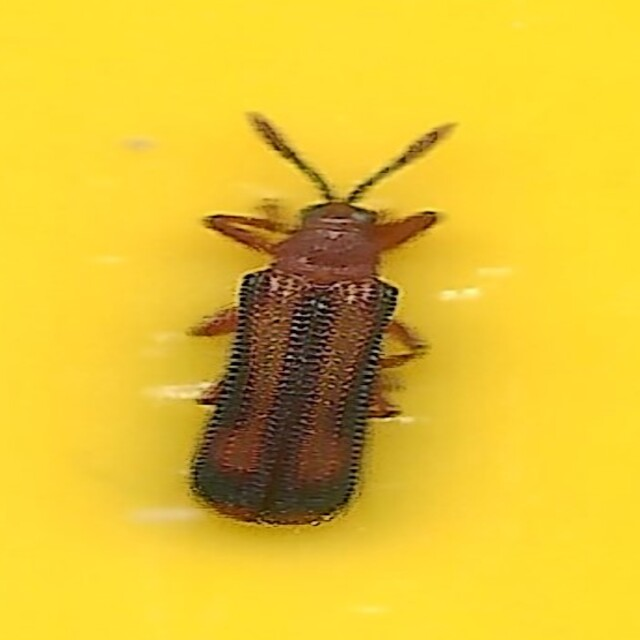Coleoptera: (186, 115, 454, 525)
